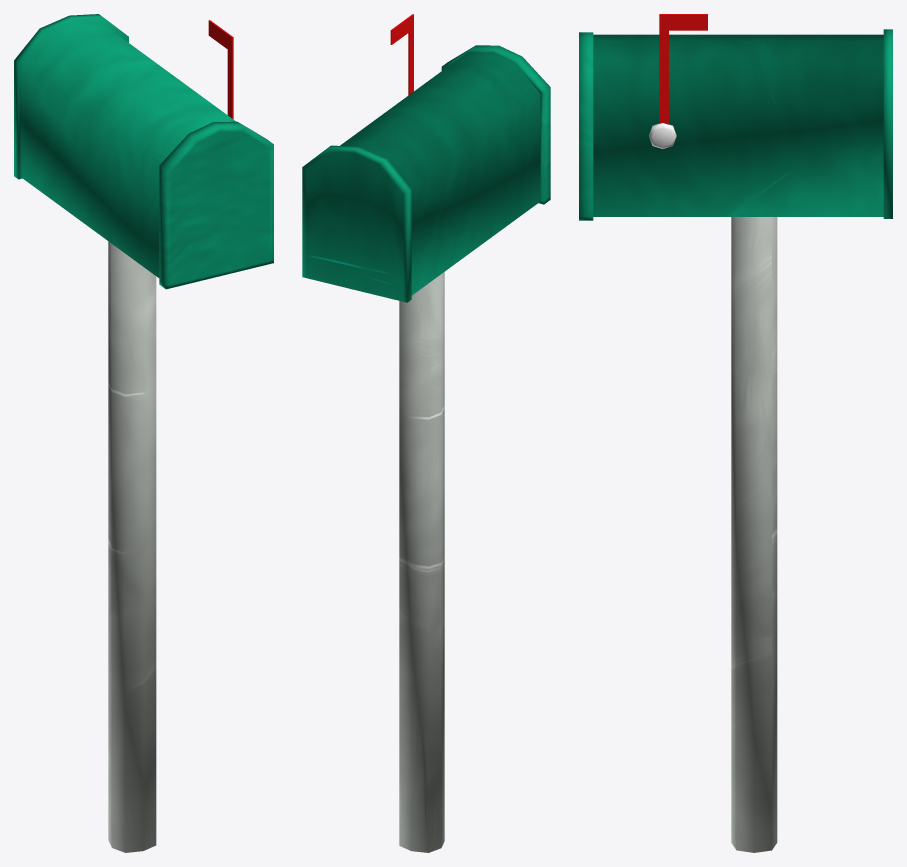
File: Mail_box_.fbx
The picture shows the model from 3 angles, left to right: view 1: azimuth 30°, elevation 25°; view 2: azimuth 150°, elevation 25°; view 3: azimuth 270°, elevation 25°; orthographic projection. The views are drawn at different scales.
Visible parts, largest first — view 1: Tube, Anta, Handle; view 2: Tube, Anta, Handle; view 3: Tube, Anta, Handle.
Boxes of the visible parts, bbox=[...] form: Tube: bbox=[14, 14, 235, 852]; Anta: bbox=[159, 121, 273, 289]; Handle: bbox=[208, 20, 233, 119]; Tube: bbox=[302, 52, 540, 852]; Anta: bbox=[441, 45, 550, 204]; Handle: bbox=[390, 14, 413, 95]; Tube: bbox=[593, 29, 892, 852]; Anta: bbox=[579, 32, 593, 220]; Handle: bbox=[649, 14, 707, 148].
Size of the model in its own units: 22.27 by 157 by 52.04.
1 material, 1 textured.
